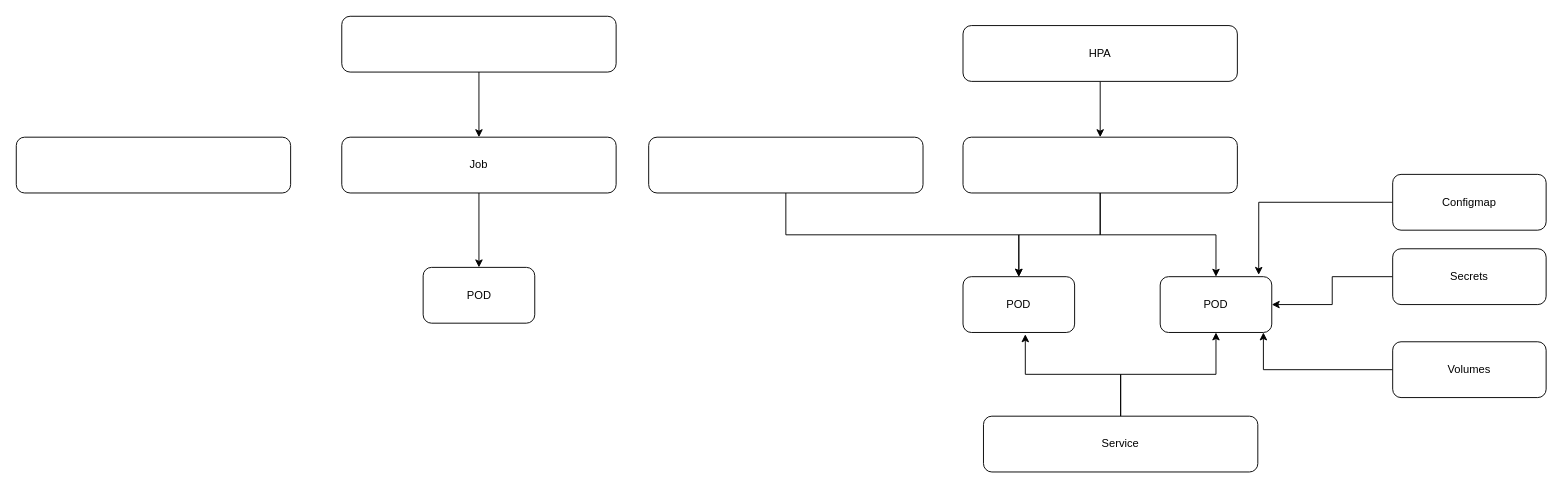
Image size: 1562x488. Some labels were removed from this diagram. The shapes that lost their labels are listed below. From the top down, each one's centre as x and y in pixels, then its label:
At pixel 478 43: "CronJob".
At pixel 153 164: "DaemonSet".
At pixel 785 164: "StatefulSet".
At pixel 1099 164: "Deployments".
